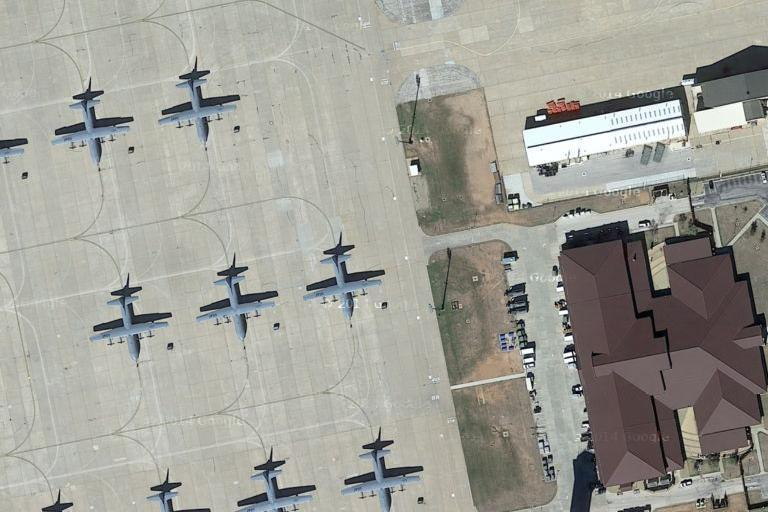C-130: (50, 98, 136, 166), (88, 295, 170, 365), (155, 76, 240, 143), (196, 274, 279, 342), (302, 252, 383, 321), (340, 446, 422, 511), (231, 465, 319, 512)
